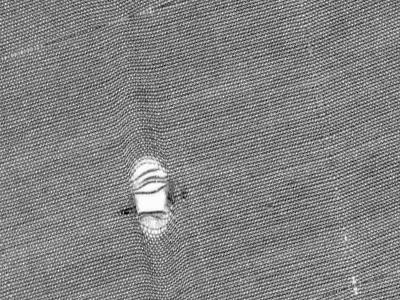hole: (121, 151, 174, 240)
